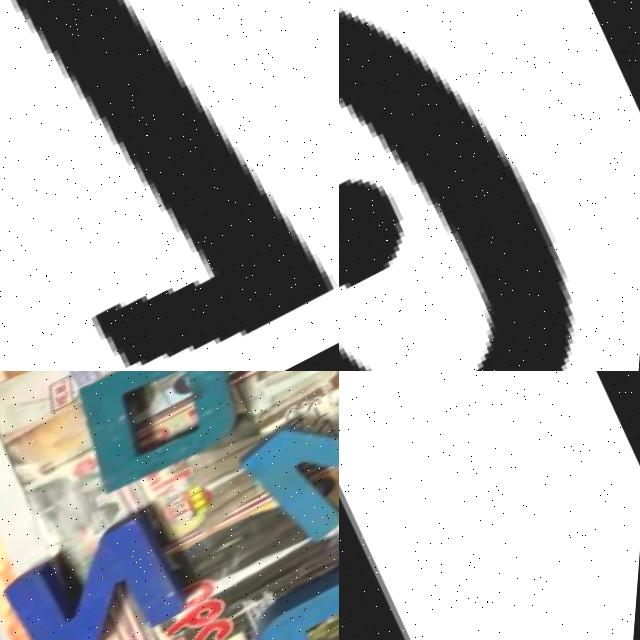0: (339, 0, 640, 371)
1: (0, 0, 339, 371)
D: (61, 371, 268, 496)
J: (244, 547, 339, 640)
N: (3, 506, 205, 640)
V: (232, 378, 339, 556)
